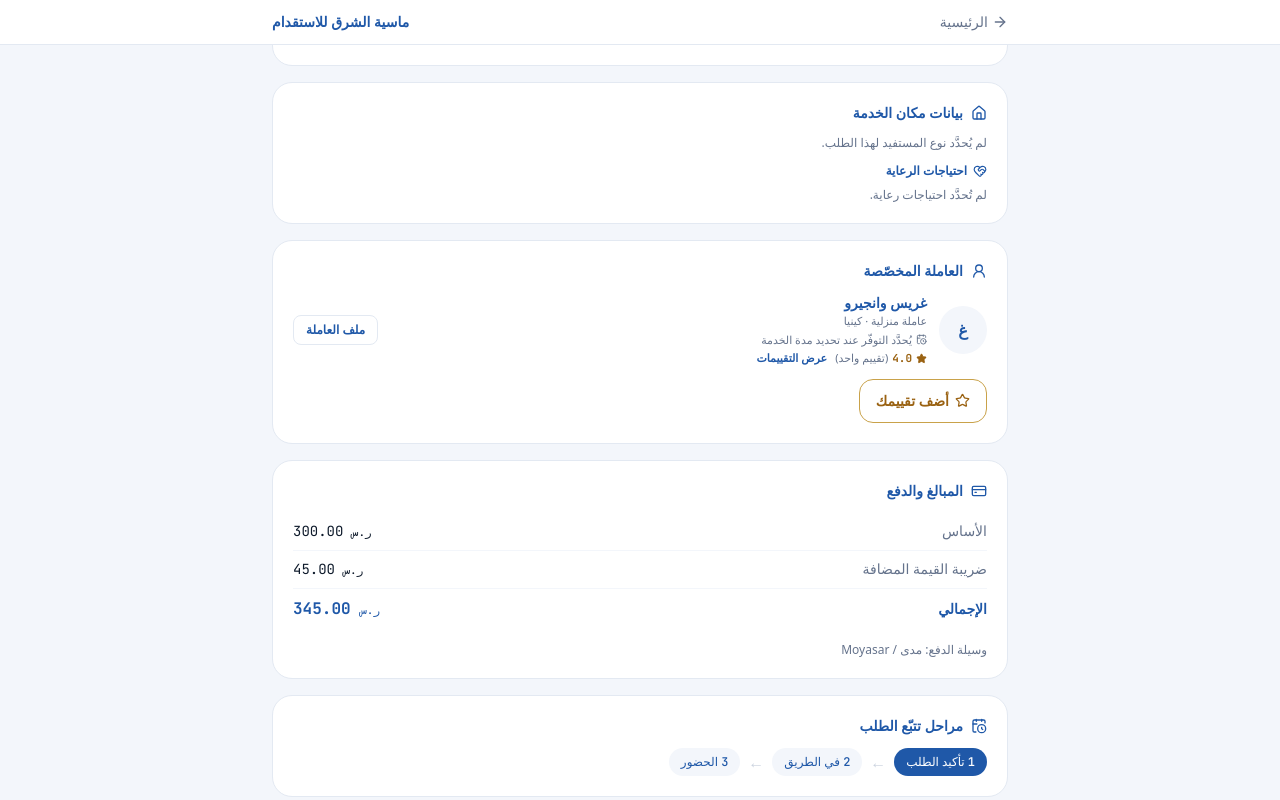
التقييم من ملف الطلب › إضافة ناجحة تحدّث الملخّص فورًا، ثم لا يمكن التقييم مرة ثانية
(page scrolled)
Click the button "أضف تقييمك".
click(923, 400)  # box [859, 378, 987, 422]
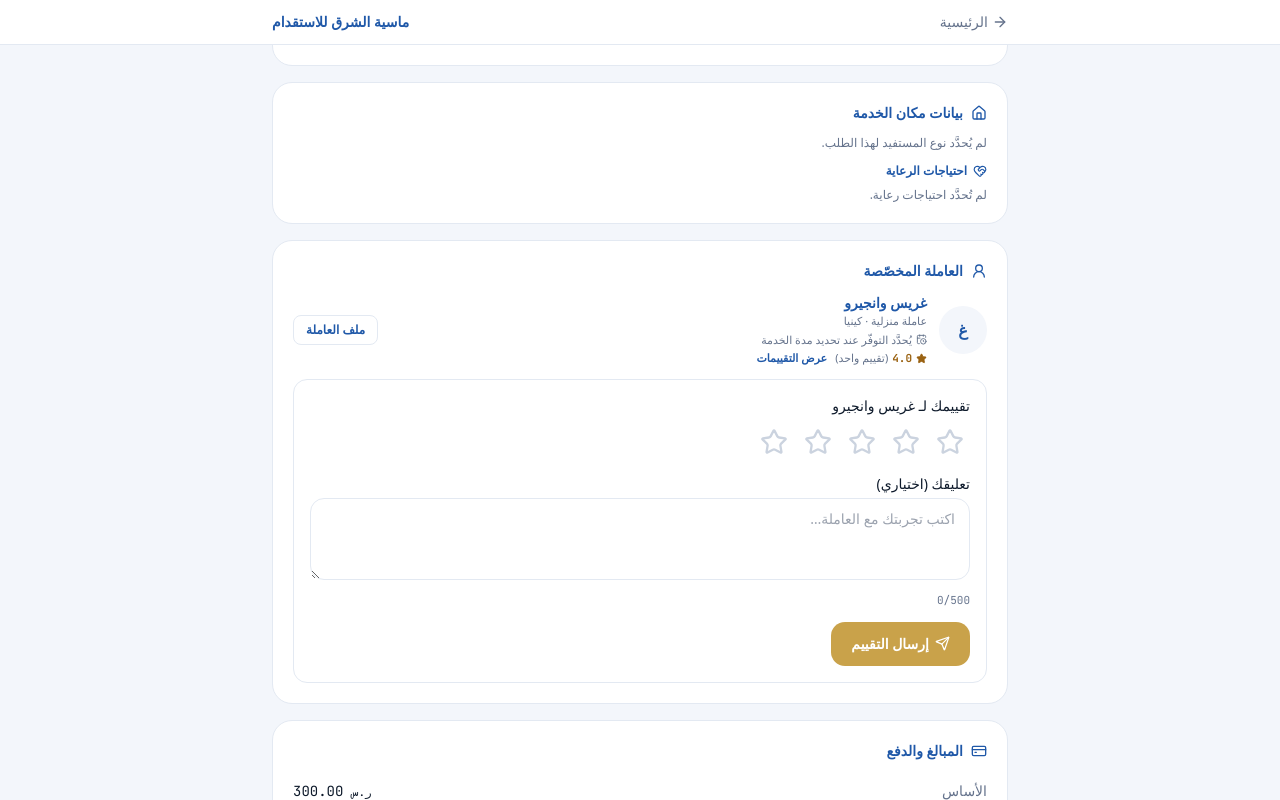
# خطأ تحقق: بلا نجوم
Click the button "إرسال التقييم".
click(901, 644)  # box [831, 622, 970, 666]
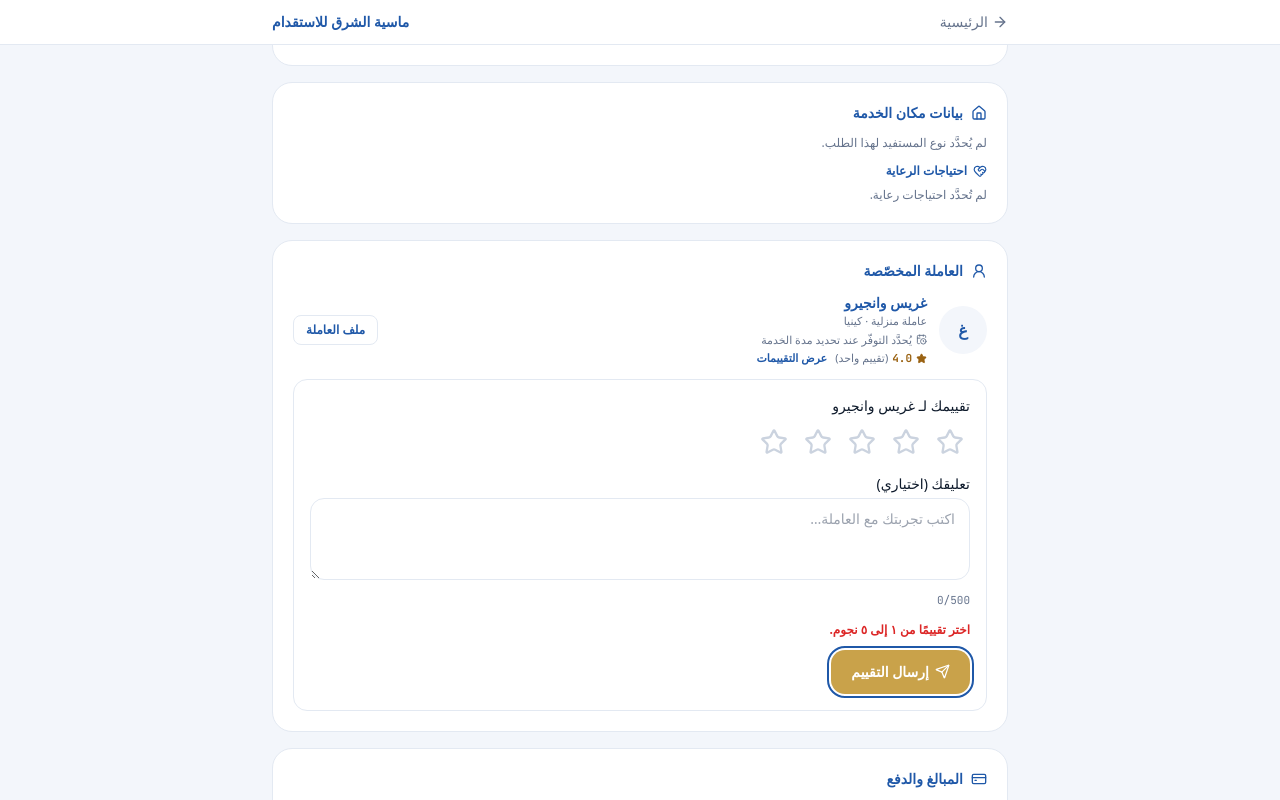
Expected: the message reads "اختر تقييمًا من ١ إلى ٥ نجوم.", [829, 620, 970, 638]
# اختيار بالنجوم (أزرار راديو — تعمل بلوحة المفاتيح)
Click the radio button named "5 نجوم".
click(774, 442)  # box [760, 428, 788, 456]
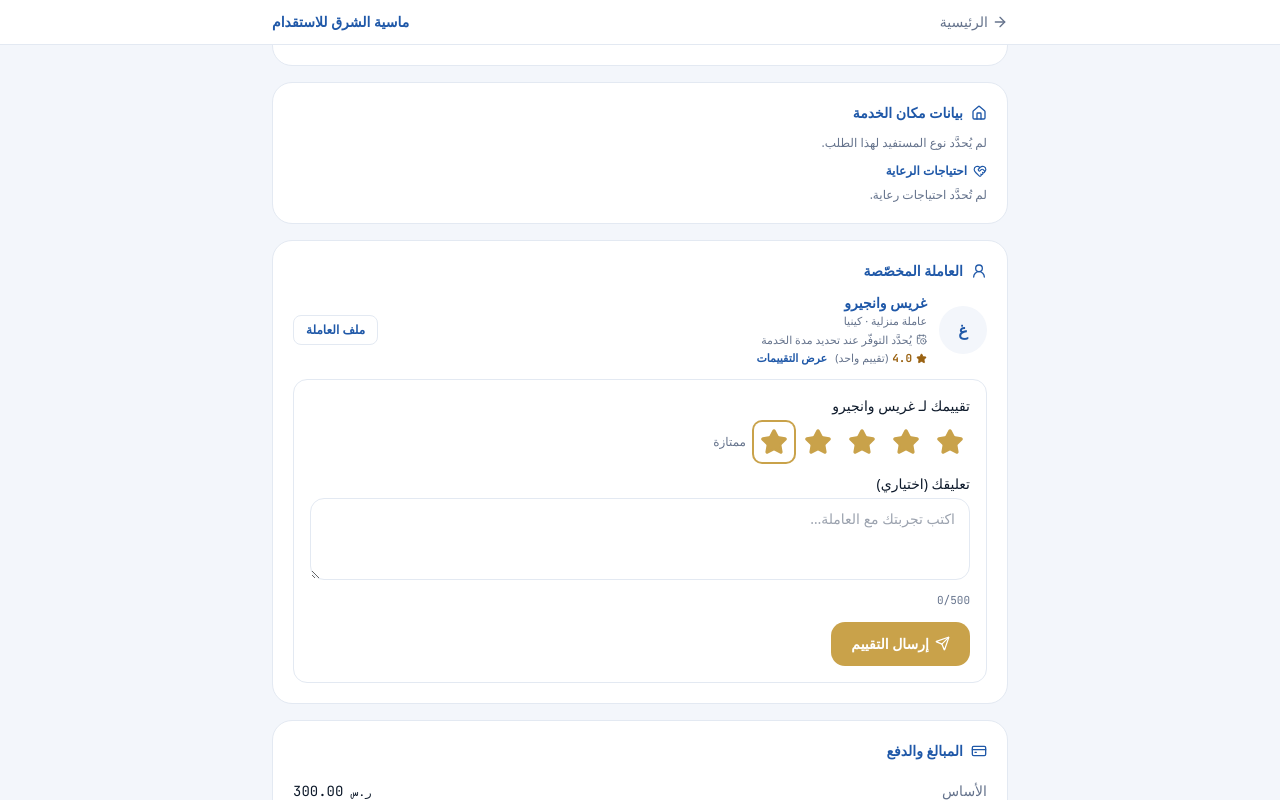
Expected: the message "اختر تقييمًا من ١ إلى ٥ نجوم." is gone
Press Arrowleft
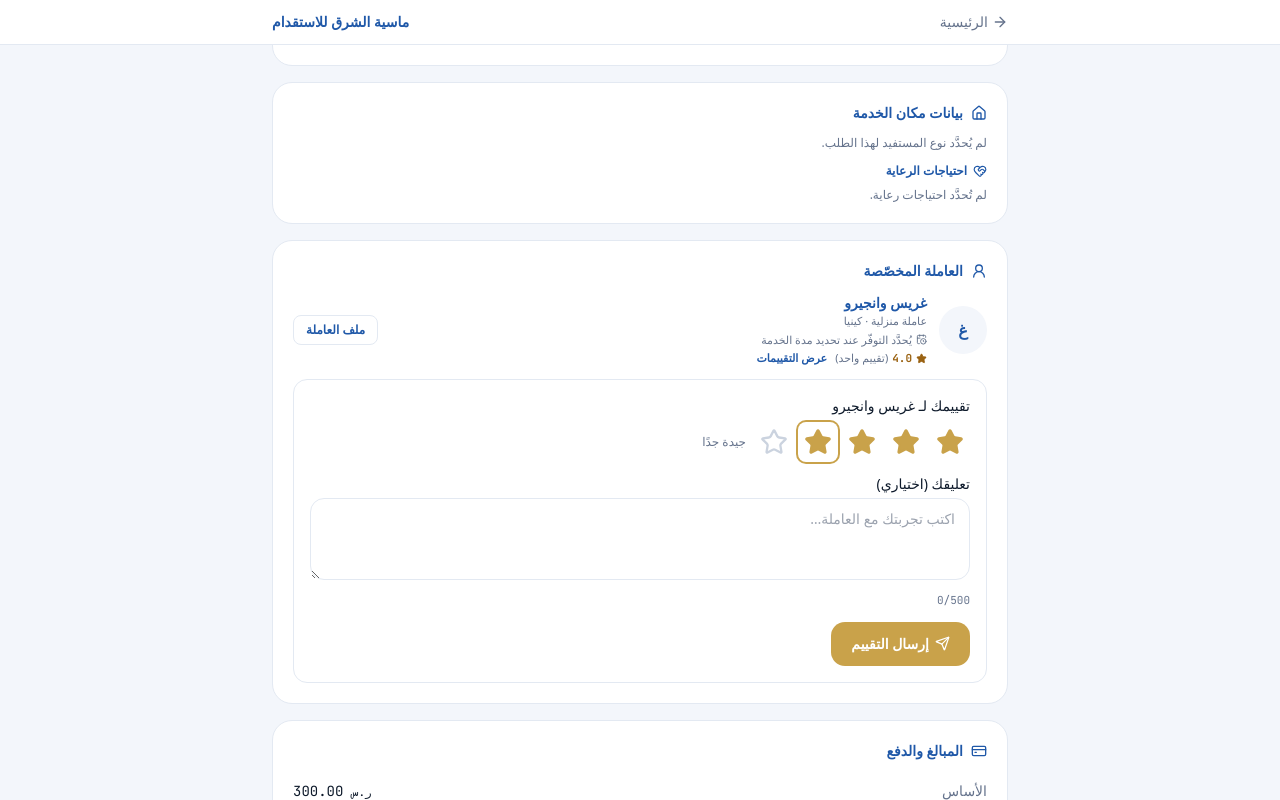
Type "منظّمة ومتعاونة" into the text box labelled "تعليقك (اختياري)".
click(640, 538); type("منظّمة ومتعاونة")  # box [310, 498, 970, 580]
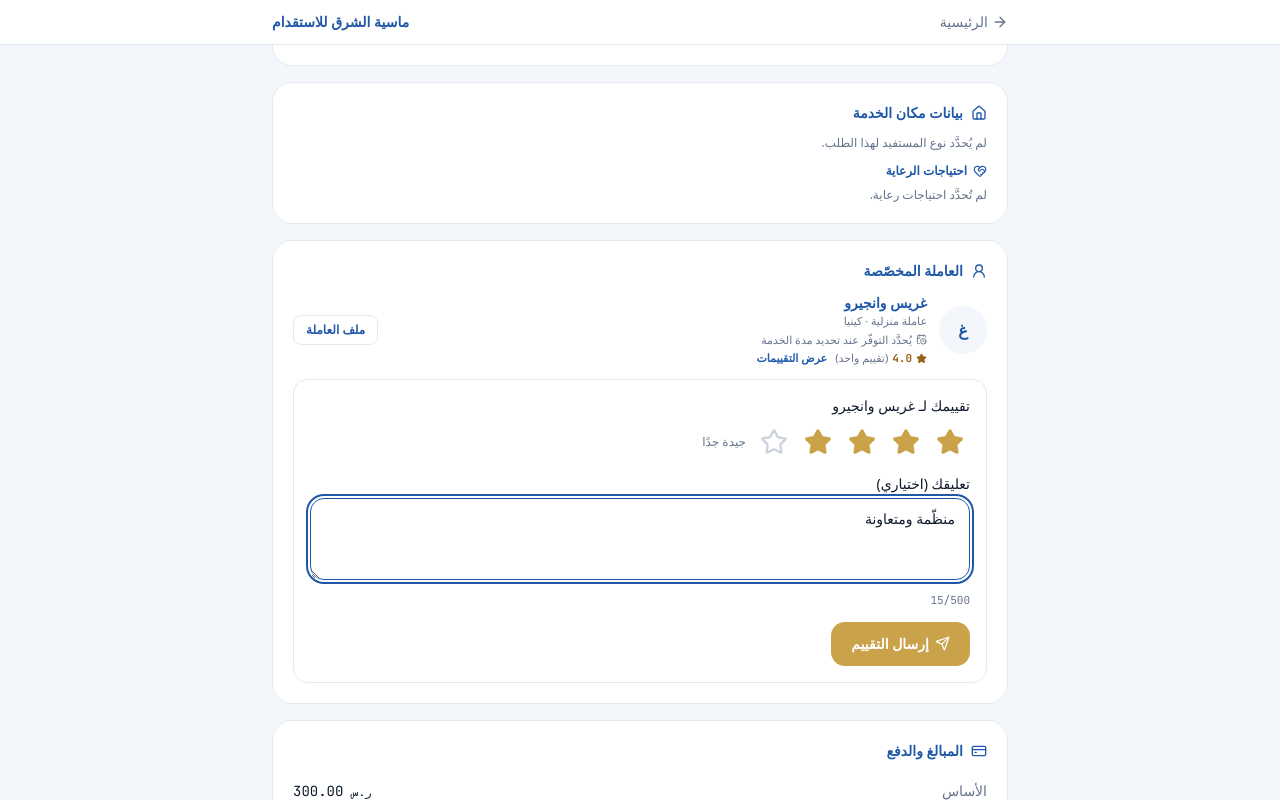
Click the button "إرسال التقييم".
click(901, 644)  # box [831, 622, 970, 666]
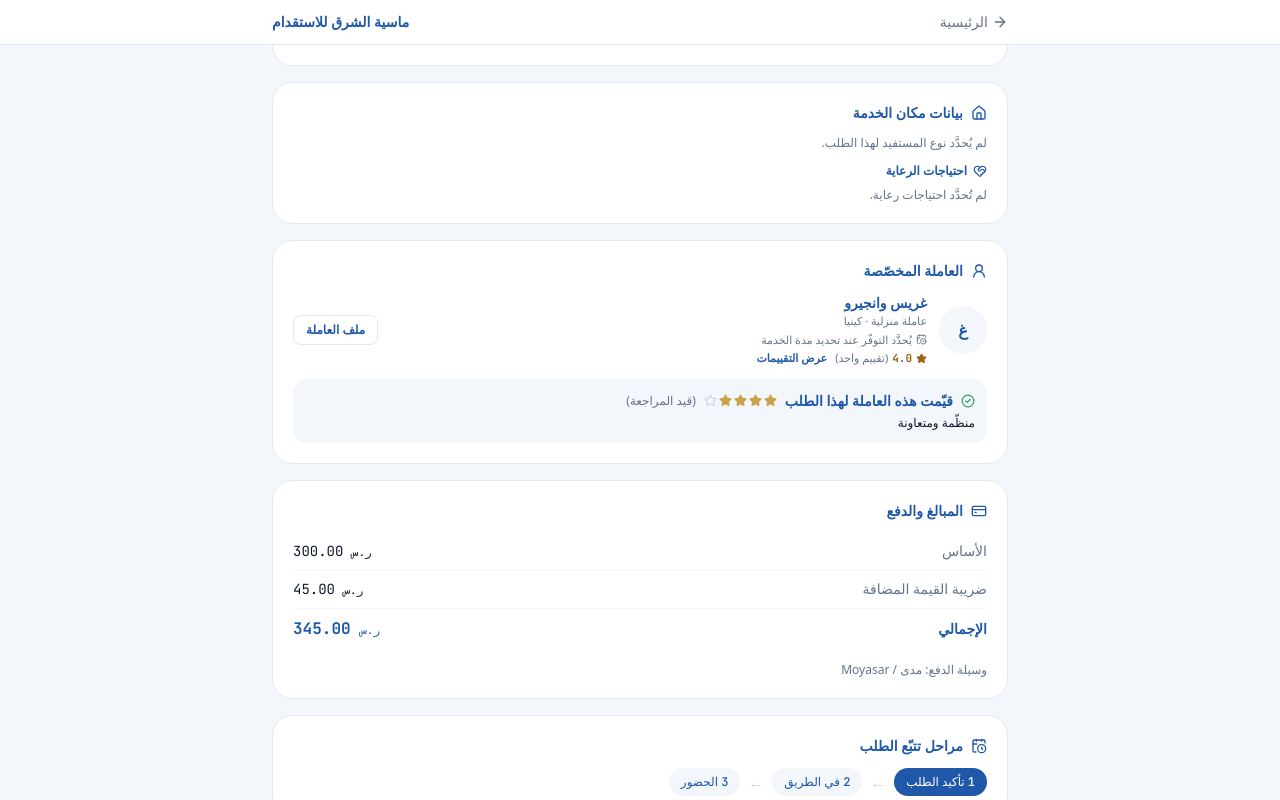
Expected: the text "قيّمت هذه العاملة لهذا الطلب (قيد المراجعة)" is shown, [626, 390, 975, 410]
Expected: the text "(قيد المراجعة)" is shown, [626, 392, 696, 408]
Expected: the text "منظّمة ومتعاونة" is shown, [898, 414, 975, 430]
